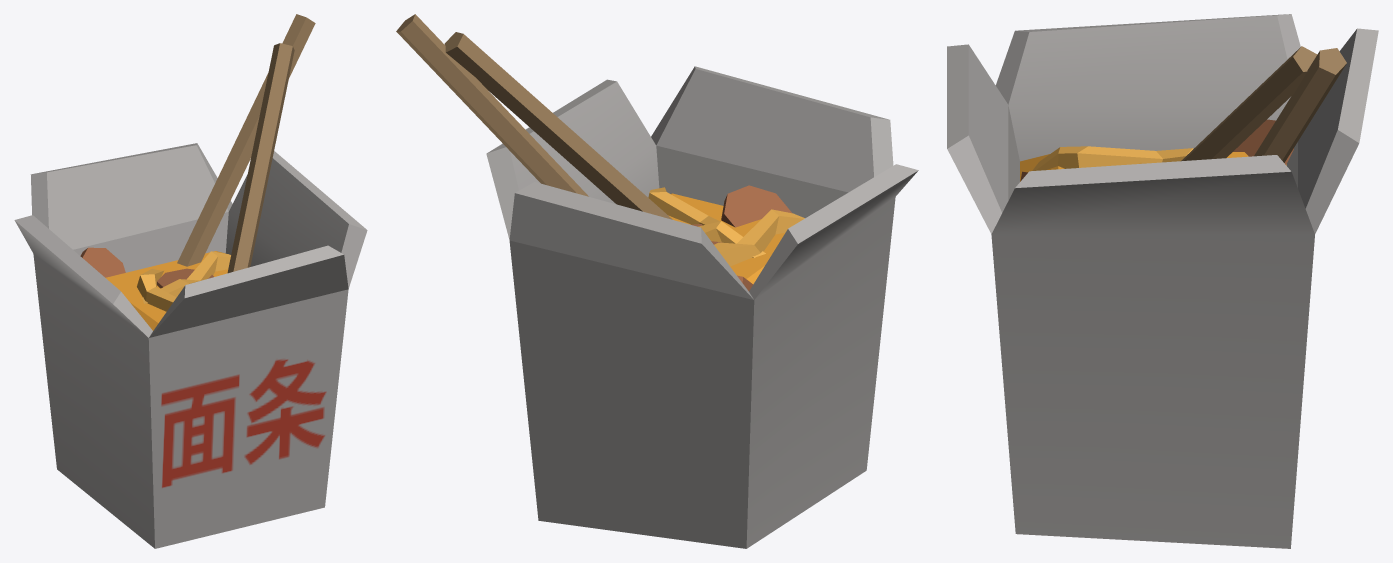
File: SM_Prop_LargeSign_Noodles_01.glb
The picture shows the model from 3 angles, left to right: view 1: azimuth 30°, elevation 25°; view 2: azimuth 150°, elevation 25°; view 3: azimuth 270°, elevation 25°; orthographic projection. The views are drawn at different scales.
Visible parts, largest first — view 1: SM_Prop_LargeSign_Noodles_01; view 2: SM_Prop_LargeSign_Noodles_01; view 3: SM_Prop_LargeSign_Noodles_01.
Part boxes in pixels (bbox=[...]): SM_Prop_LargeSign_Noodles_01: bbox=[14, 14, 367, 548]; SM_Prop_LargeSign_Noodles_01: bbox=[396, 14, 918, 548]; SM_Prop_LargeSign_Noodles_01: bbox=[947, 14, 1378, 548].
Size of the model in its own units: 0.0295 by 0.036 by 0.0252.
1 material, 1 textured.
